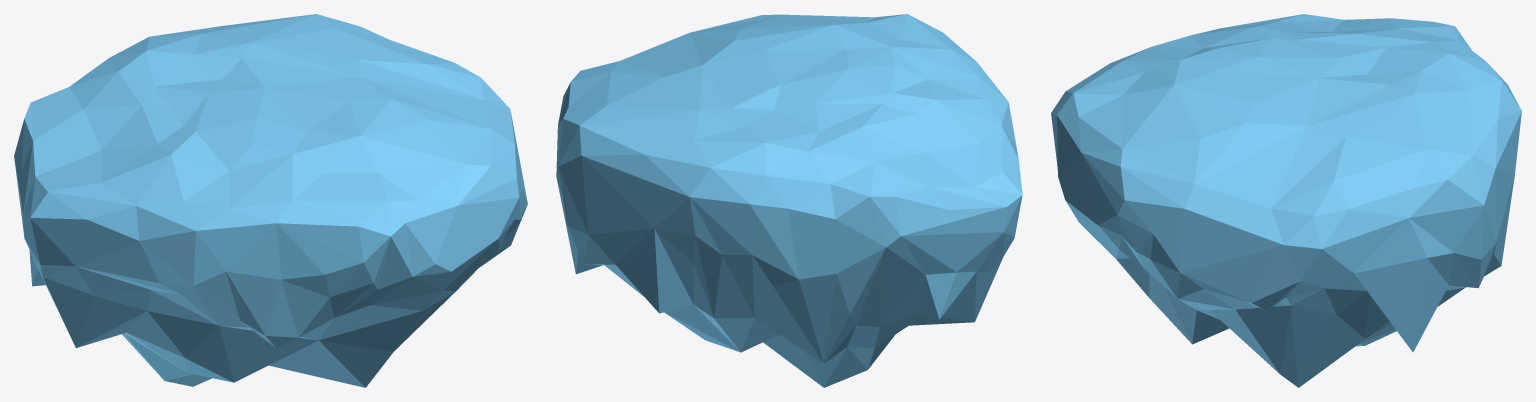
File: PROP_Ice_FlyingIsland02.FBX
The picture shows the model from 3 angles, left to right: view 1: azimuth 30°, elevation 25°; view 2: azimuth 150°, elevation 25°; view 3: azimuth 270°, elevation 25°; orthographic projection. The views are drawn at different scales.
Parts seen in each view (by area): view 1: PROP_Ice_FlyingIsland02; view 2: PROP_Ice_FlyingIsland02; view 3: PROP_Ice_FlyingIsland02.
Boxes of the visible parts, <box> form: PROP_Ice_FlyingIsland02: <box>14,14,527,387</box>; PROP_Ice_FlyingIsland02: <box>556,14,1022,387</box>; PROP_Ice_FlyingIsland02: <box>1051,14,1521,387</box>.
Size of the model in its own units: 389 by 234 by 350.
Materials: 1 (1 with a texture image).
